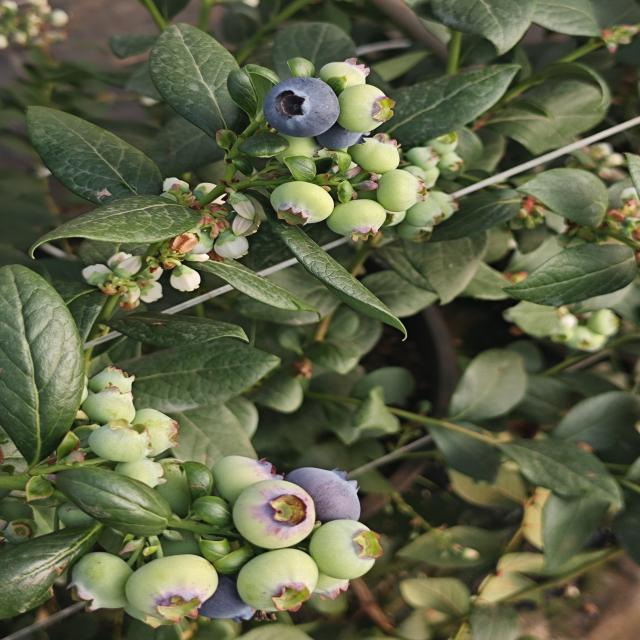ripe: (284, 459, 376, 529), (184, 566, 266, 626), (256, 72, 330, 136), (313, 114, 374, 154)
